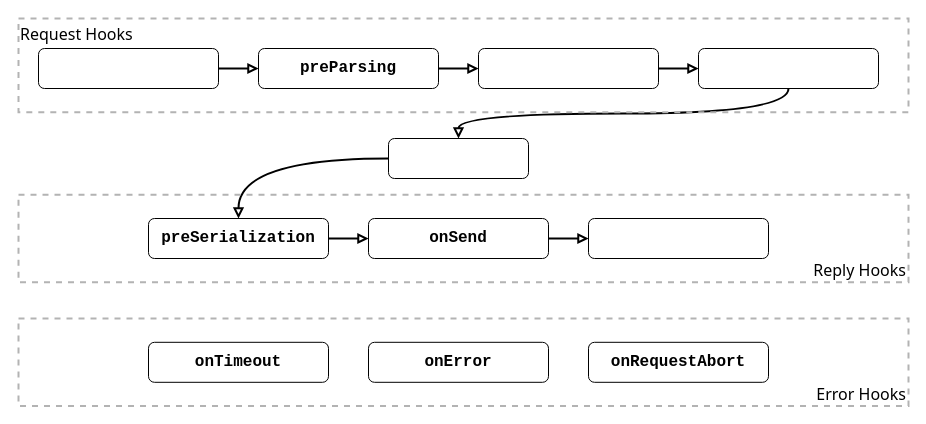
The diagram is 926 pixels wide and 424 high, and some of its shapes have lost their labels. Here are the shapes that lost their labels. From the top down, the centre of each, then its label:
At point (128, 68): "onRequest".
At point (568, 68): "preValidation".
At point (788, 68): "preHandler".
At point (458, 158): "Route handler".
At point (678, 238): "onResponse".
